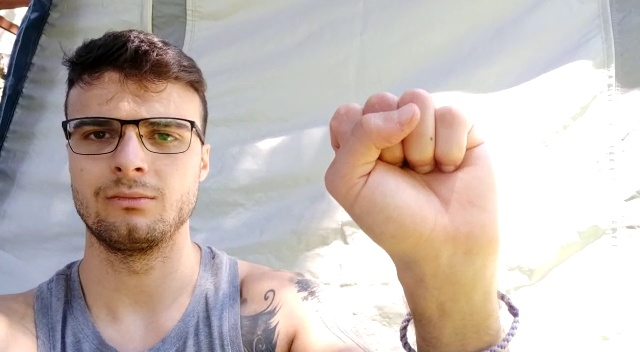Fist: (322, 86, 508, 254)
